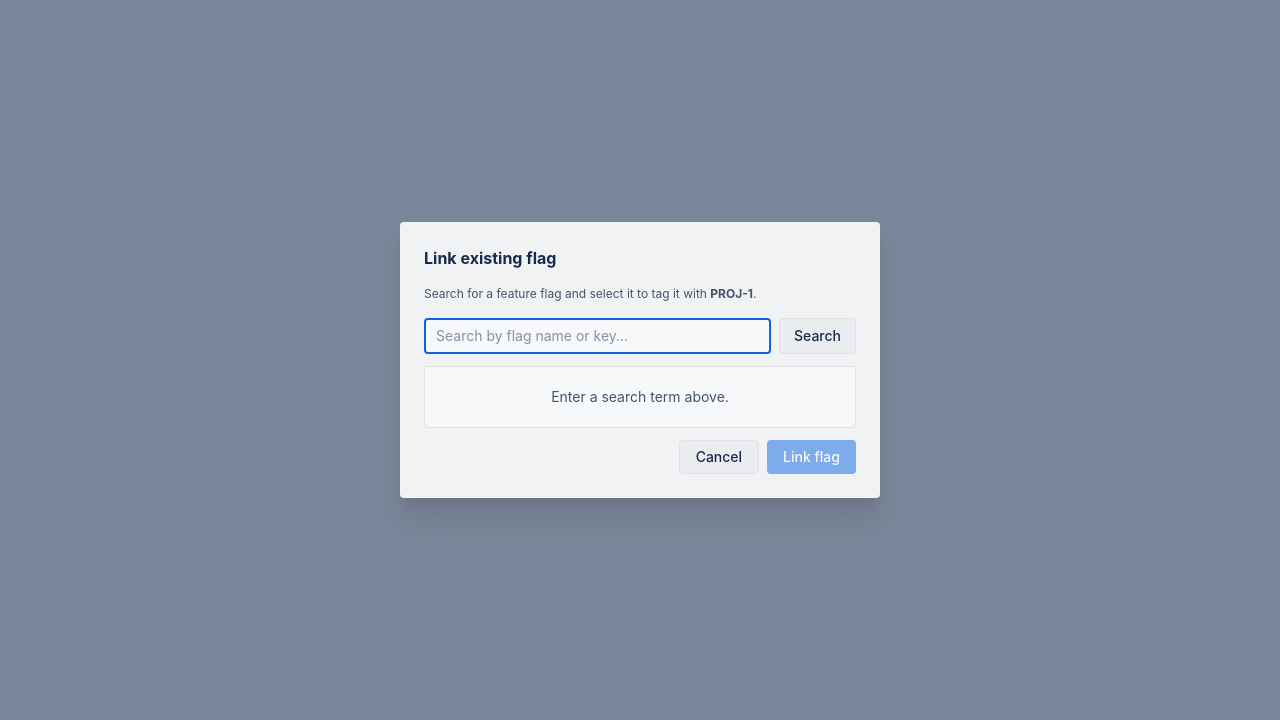
Test case: LinkFlagModal › shows returned flags as selectable items
Type "my" into the field with placeholder "Search by flag name or key…".
click(598, 336); type("my")  # box [424, 318, 771, 354]
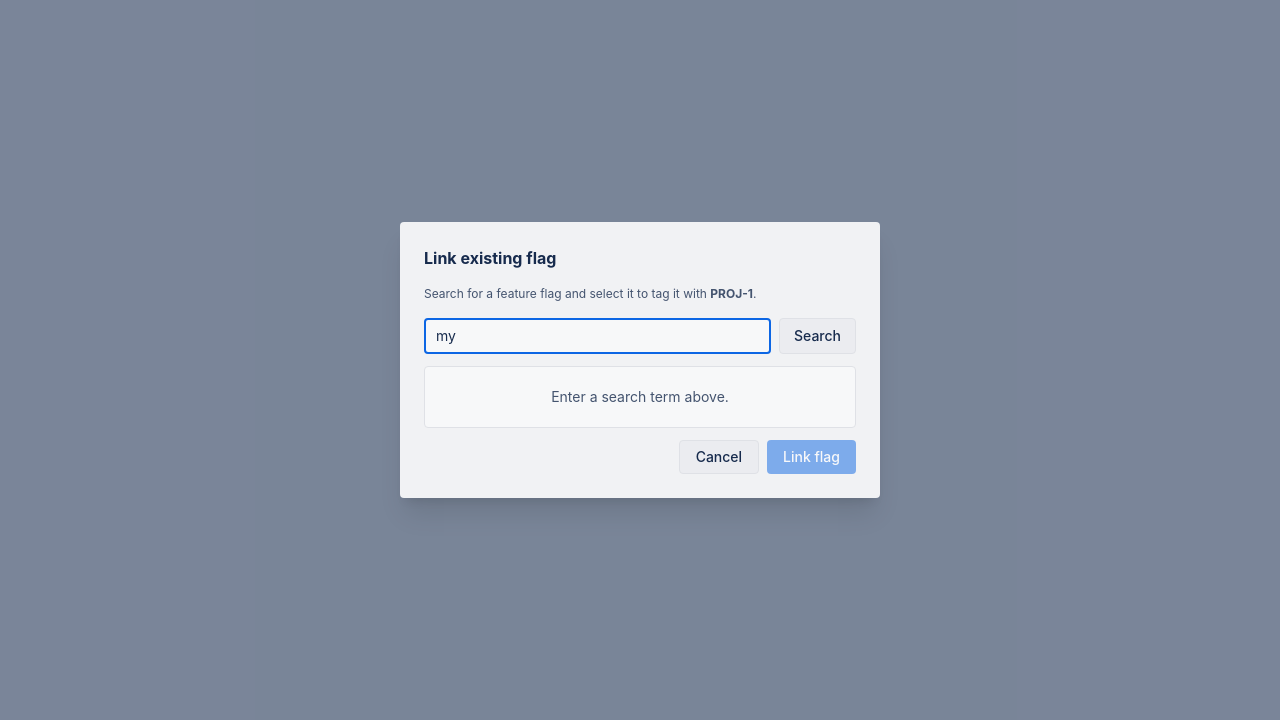
Click the button "Search".
click(818, 336)  # box [779, 318, 856, 354]
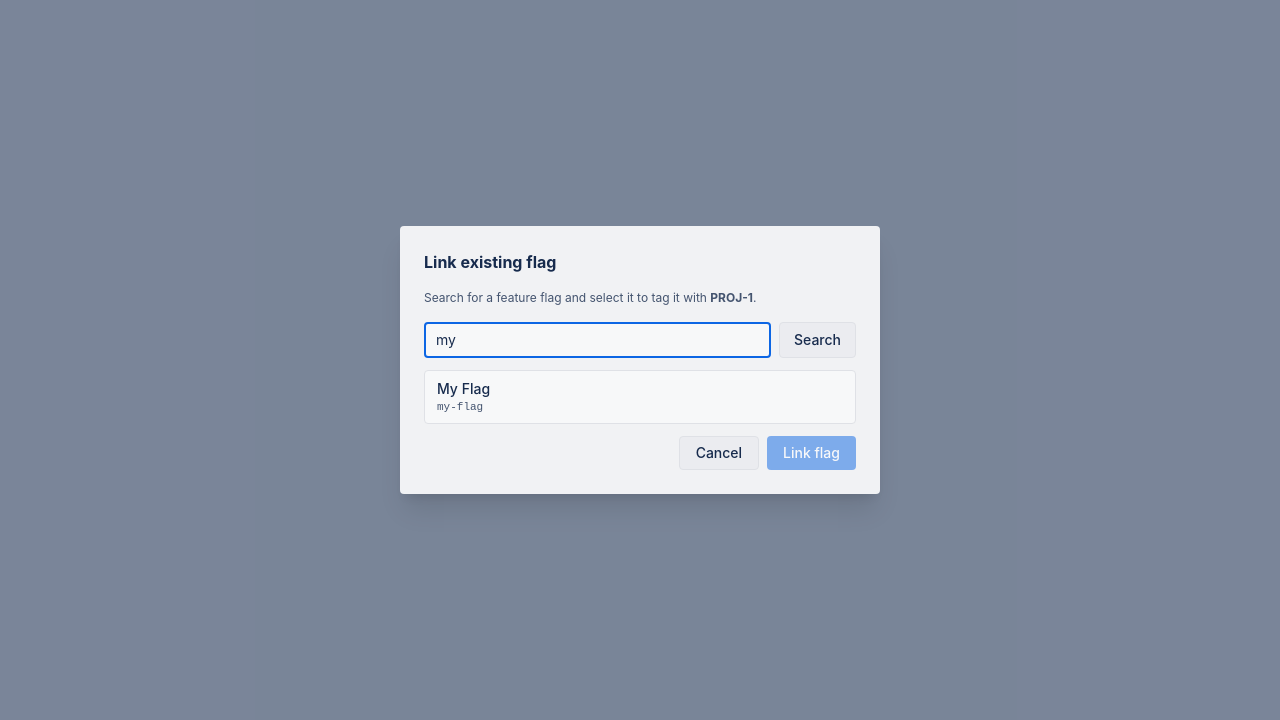
Expected: the text "My Flag" is shown, [437, 380, 490, 397]
Expected: the text "my-flag" is shown, [437, 401, 483, 413]
